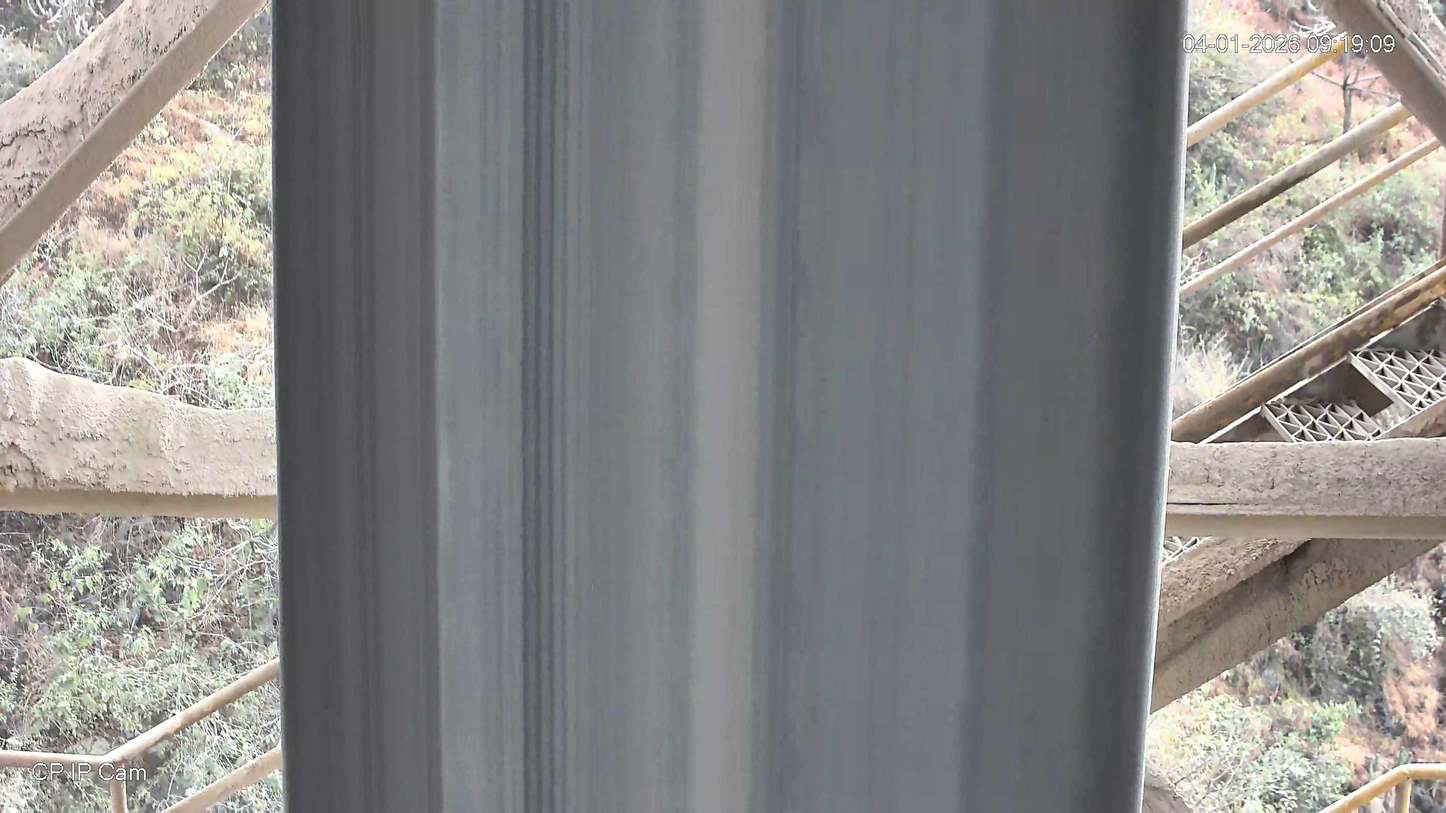belt_roi: (272, 0, 1191, 813)
